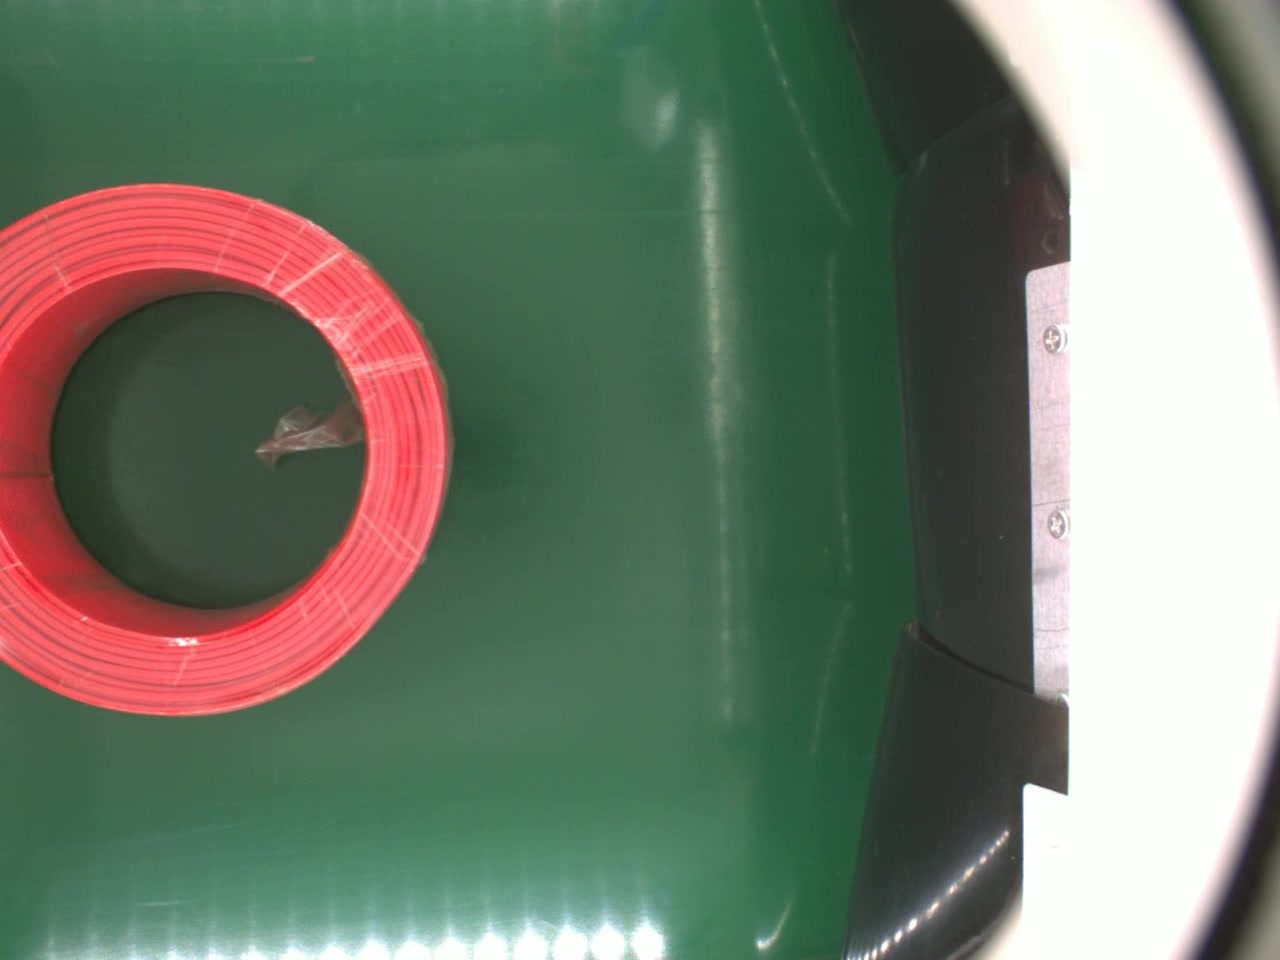red: (0, 182, 457, 720)
